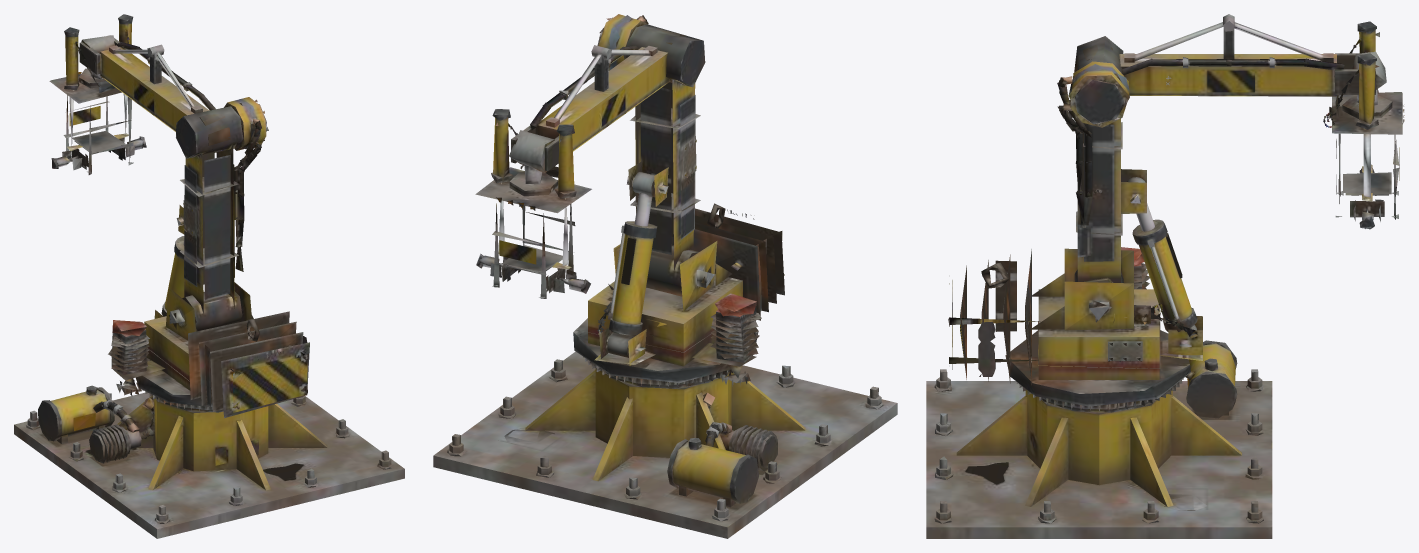
The model's file is braco_empilhador.glb.
3 renders of one model, left to right at view 1: azimuth 30°, elevation 25°; view 2: azimuth 150°, elevation 25°; view 3: azimuth 270°, elevation 25°, orthographic. The views are drawn at different scales.
Parts seen in each view (by area): view 1: braco_empilhador_base, braco_empilhador_giro, braco_empilhador_braco1, braco_empilhador_braco2, braco_empilhador_garra, braco_empilhador_camisa; view 2: braco_empilhador_base, braco_empilhador_giro, braco_empilhador_braco1, braco_empilhador_garra, braco_empilhador_braco2, braco_empilhador_camisa, braco_empilhador_haste; view 3: braco_empilhador_base, braco_empilhador_giro, braco_empilhador_braco1, braco_empilhador_braco2, braco_empilhador_garra, braco_empilhador_camisa.
Part boxes in pixels (left/top/right/bottom): braco_empilhador_base: left=14, top=385, right=404, bottom=538; braco_empilhador_giro: left=108, top=282, right=309, bottom=418; braco_empilhador_braco1: left=176, top=97, right=268, bottom=331; braco_empilhador_braco2: left=79, top=35, right=230, bottom=154; braco_empilhador_garra: left=49, top=14, right=146, bottom=174; braco_empilhador_camisa: left=161, top=236, right=184, bottom=316; braco_empilhador_base: left=433, top=351, right=897, bottom=538; braco_empilhador_giro: left=573, top=203, right=784, bottom=386; braco_empilhador_braco1: left=597, top=14, right=705, bottom=296; braco_empilhador_garra: left=475, top=109, right=591, bottom=298; braco_empilhador_braco2: left=511, top=28, right=685, bottom=171; braco_empilhador_camisa: left=607, top=221, right=657, bottom=357; braco_empilhador_haste: left=633, top=172, right=655, bottom=226; braco_empilhador_base: left=926, top=340, right=1272, bottom=538; braco_empilhador_giro: left=948, top=247, right=1202, bottom=406; braco_empilhador_braco1: left=1057, top=36, right=1146, bottom=282; braco_empilhador_braco2: left=1074, top=14, right=1375, bottom=96; braco_empilhador_garra: left=1323, top=21, right=1404, bottom=229; braco_empilhador_camisa: left=1132, top=219, right=1197, bottom=331.
Bounding box in the file's own units: 0.8 × 1.15 × 1.11.
1 material, 1 textured.
